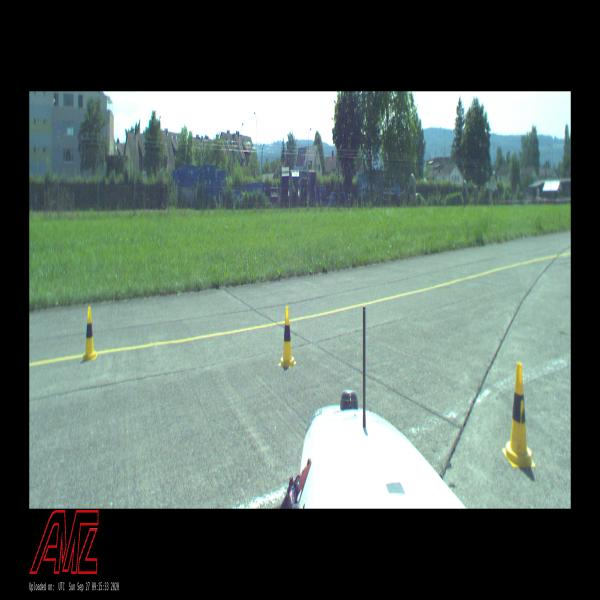yellow_cone: (502, 362, 535, 468), (278, 306, 296, 367), (83, 306, 97, 360)
